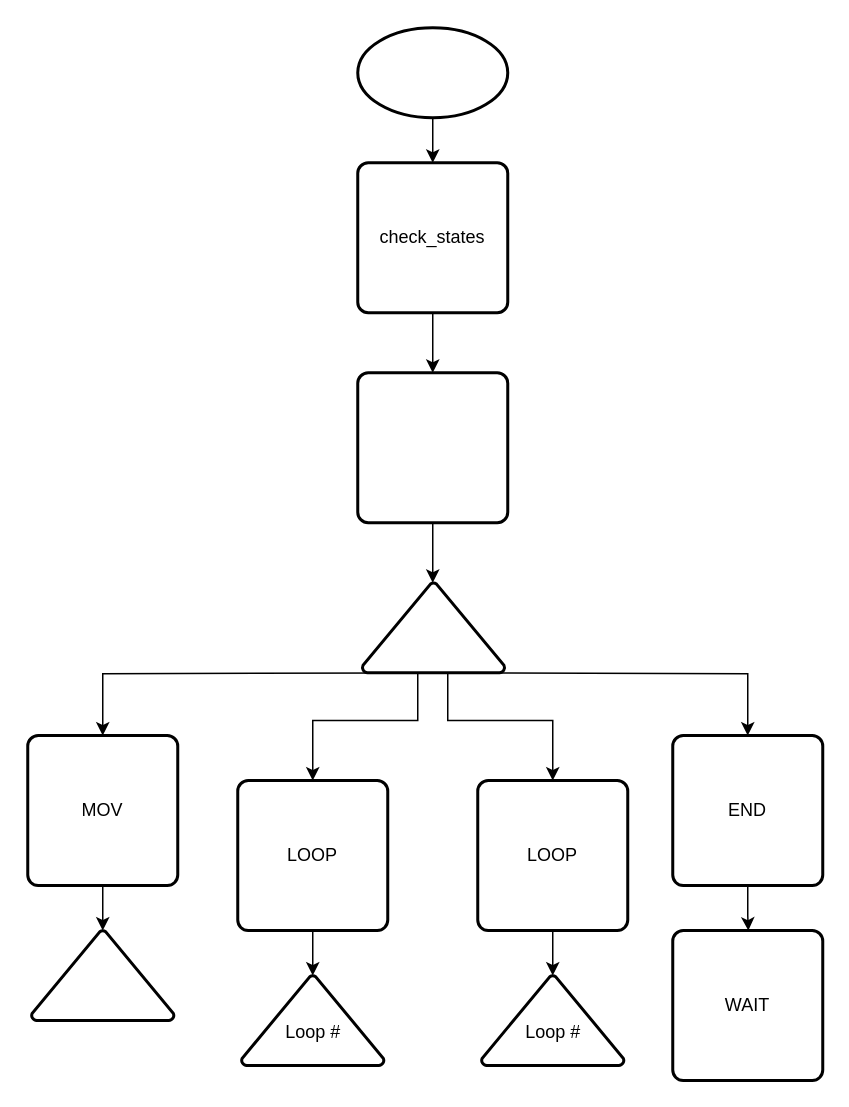
This 849x1107 diagram has some shape labels left out. Each missing label, with the centre of its shape:
1st 3 Opcode Bits: the point at 433,627
Position: the point at 102,974
Program_Begin: the point at 432,72
Start Recipe: the point at 432,447
